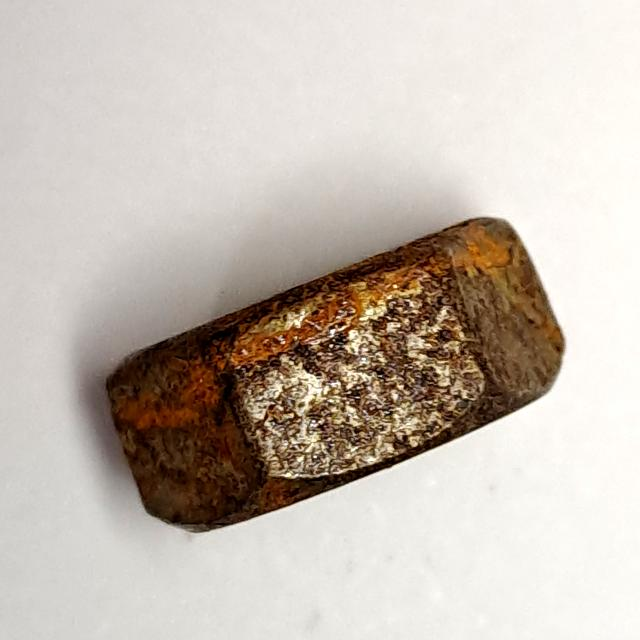Side_Rust: (89, 205, 580, 548)
